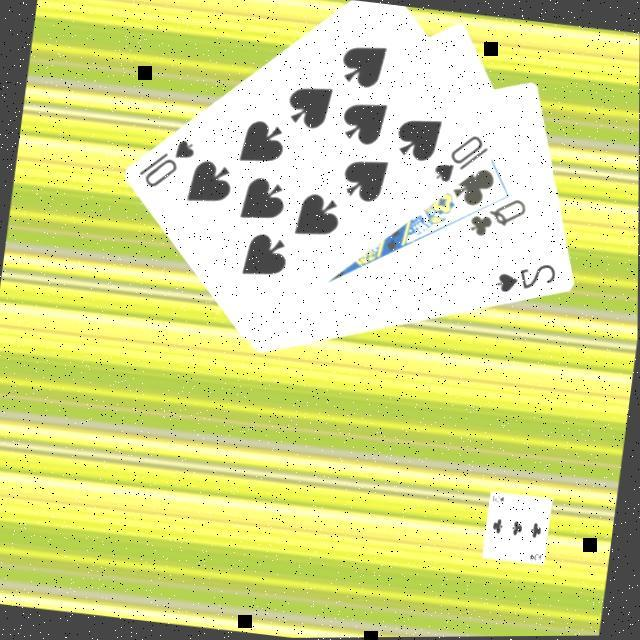10S: (135, 132, 202, 197), (430, 129, 495, 193)
2S: (493, 255, 562, 303)
QC: (466, 191, 534, 247)
